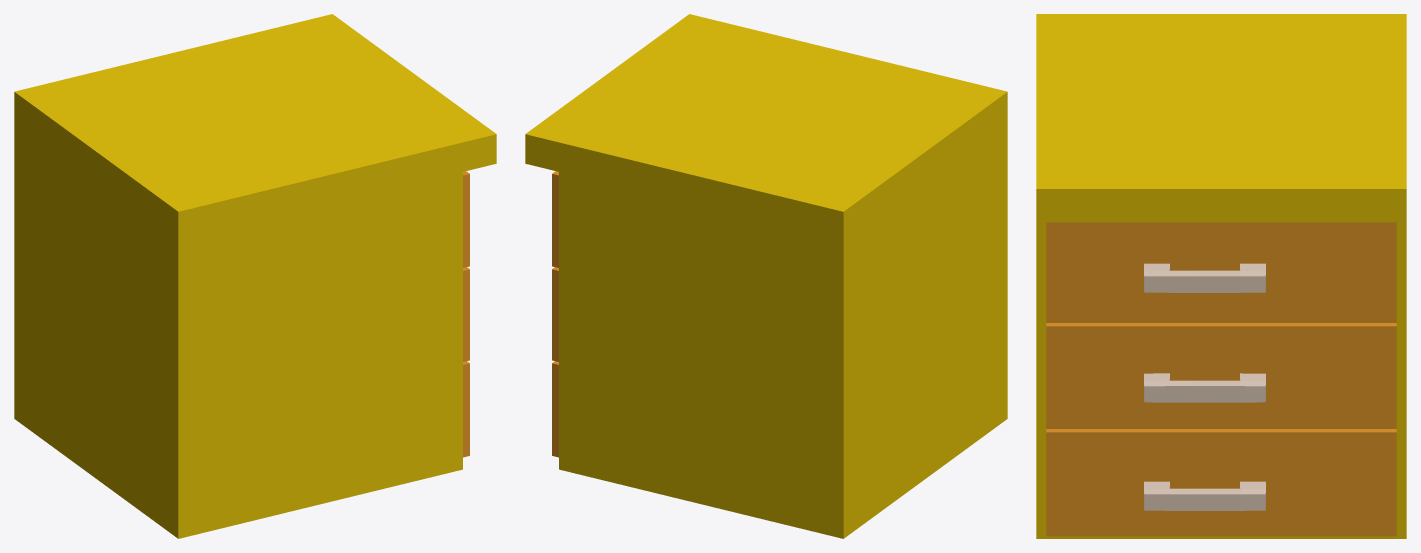
File: Kitchen Cubourd.fbx
The picture shows the model from 3 angles, left to right: view 1: azimuth 30°, elevation 25°; view 2: azimuth 150°, elevation 25°; view 3: azimuth 270°, elevation 25°; orthographic projection. The views are drawn at different scales.
Parts seen in each view (by area): view 1: Cubourd Base.001; view 2: Cubourd Base.001; view 3: Cubourd Base.001, Cubourd Handle 1, Cubourd Handle 2, Cubourd Handle 3.
Part boxes in pixels (x1,y1,x2,y2): Cubourd Base.001: [14, 14, 496, 538]; Cubourd Base.001: [525, 14, 1007, 538]; Cubourd Base.001: [1036, 14, 1406, 538]; Cubourd Handle 1: [1144, 263, 1265, 292]; Cubourd Handle 2: [1144, 373, 1265, 402]; Cubourd Handle 3: [1144, 481, 1265, 510].
Size of the model in its own units: 108 by 106 by 96.29.
